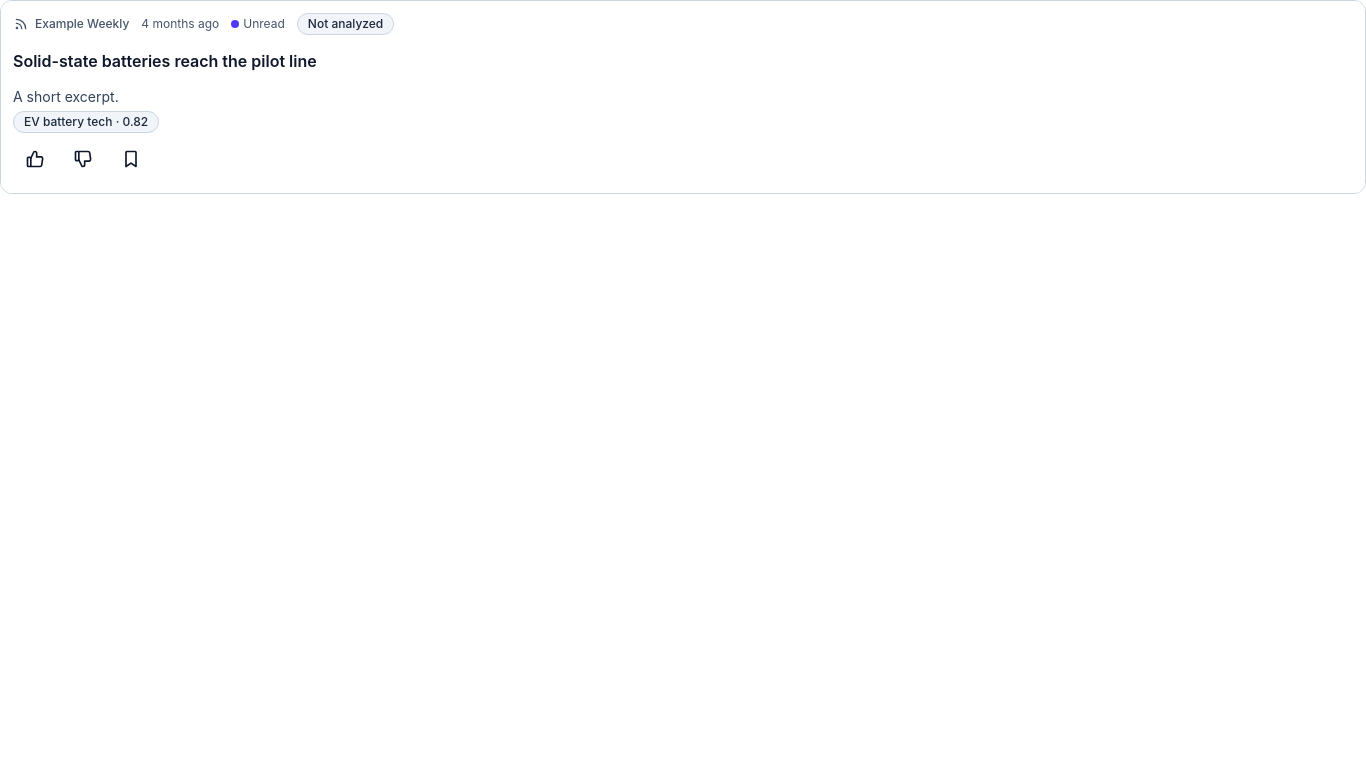
Test: the offer in the undo toast › stays on screen until it is closed
The width and height of the screenshot is (1366, 768).
Click the button named "Like": (35, 159) [13,137,57,181]
Wait 60000 ms
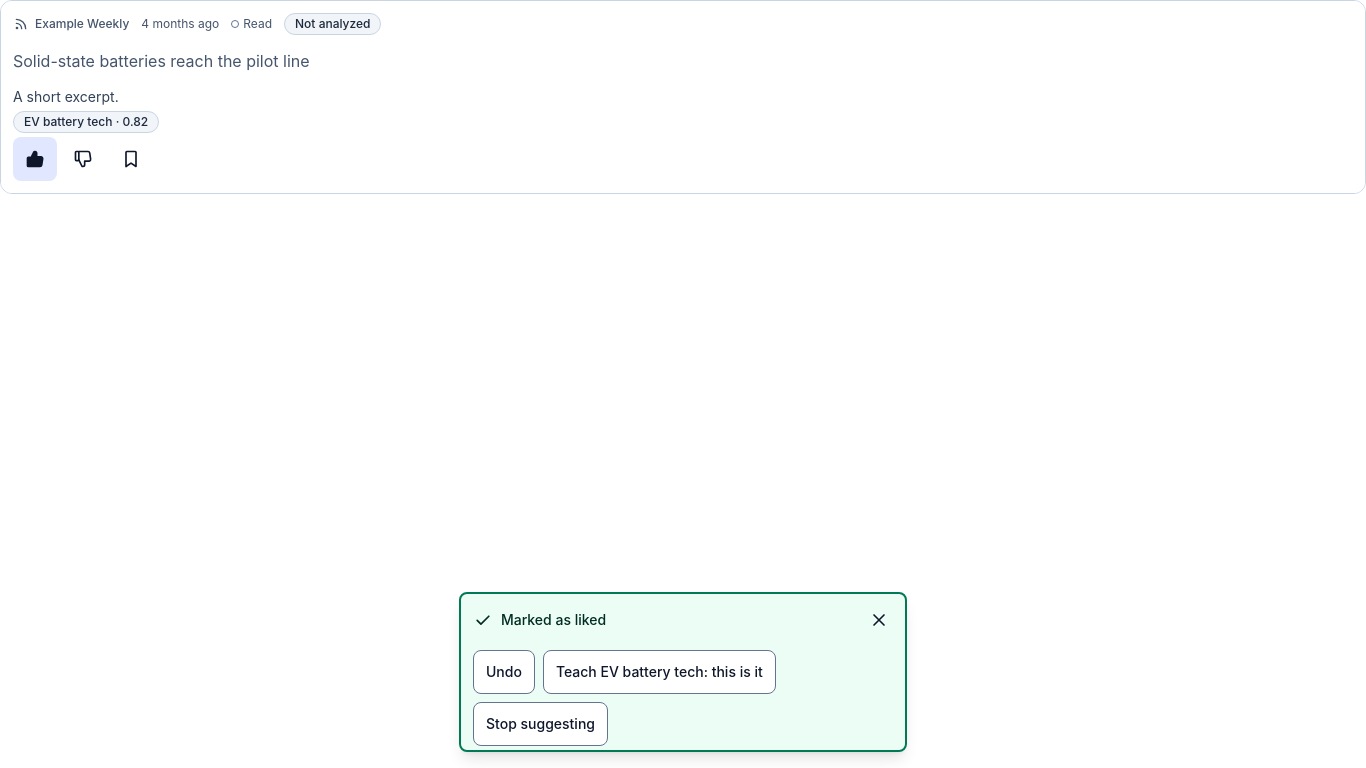
Expected: the text "Marked as liked" is shown, [501,611,606,628]
Click the button named "Dismiss": (879, 620) [857,598,901,642]
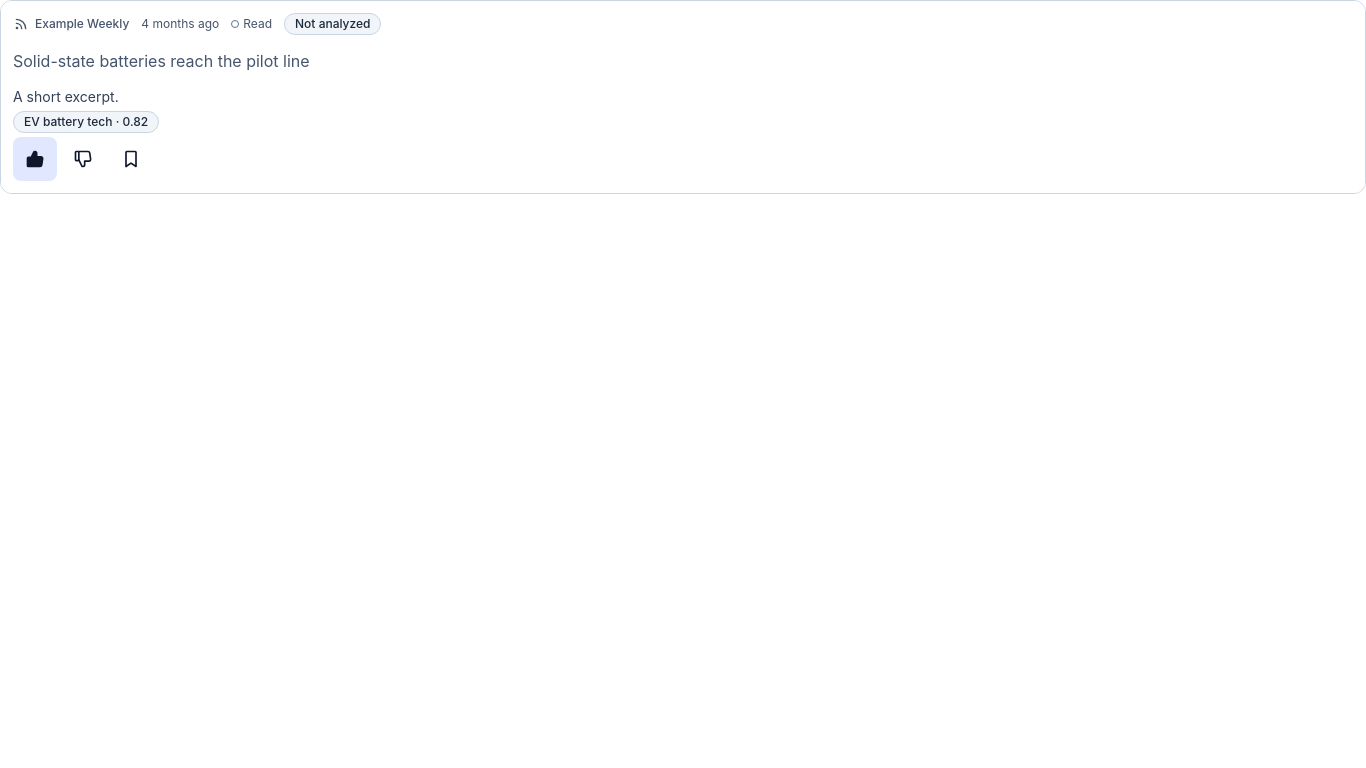
Expected: the text "Marked as liked" is gone
